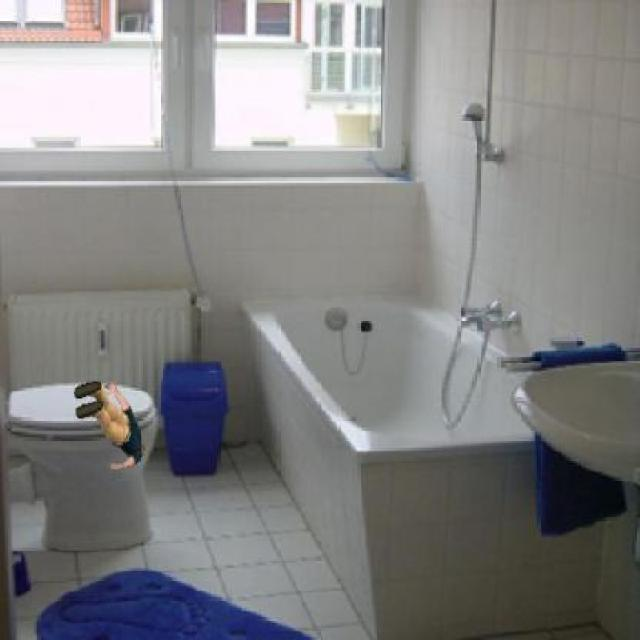Person: (69, 374, 149, 474)
